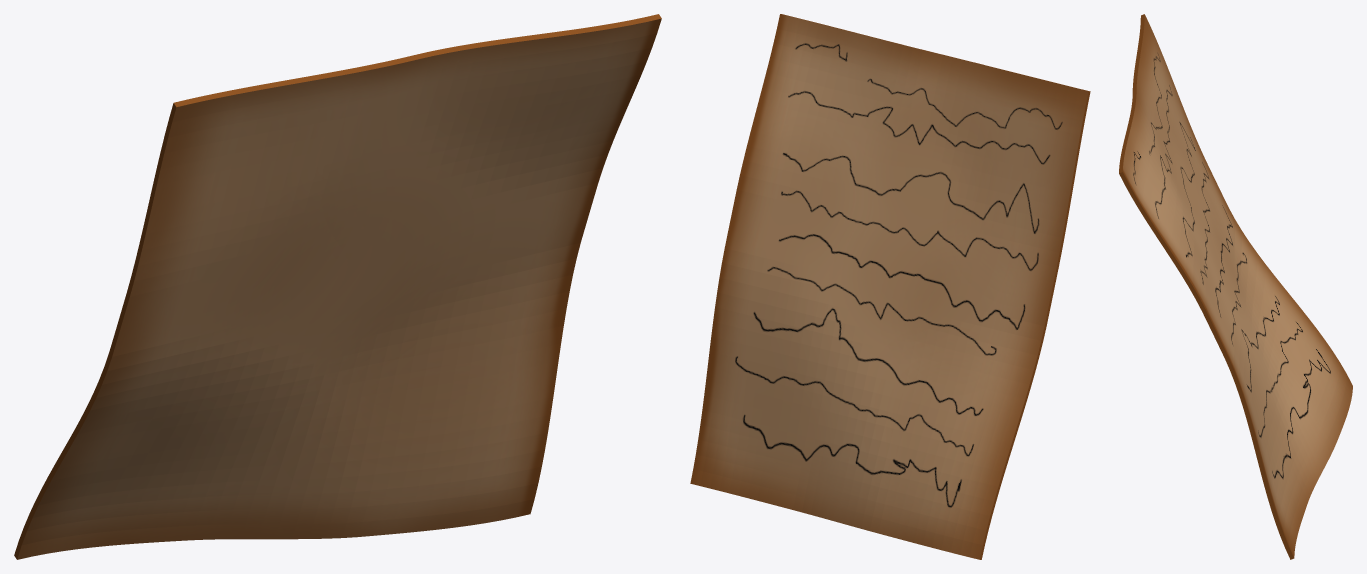
Rendered from Zapiski_mistrza.fbx.
The picture shows the model from 3 angles, left to right: view 1: azimuth 30°, elevation 25°; view 2: azimuth 150°, elevation 25°; view 3: azimuth 270°, elevation 25°; orthographic projection. The views are drawn at different scales.
Visible parts, largest first — view 1: Cube; view 2: Cube; view 3: Cube.
Part boxes in pixels (x1,y1,x2,y2): Cube: (14,14,661,559); Cube: (690,14,1090,559); Cube: (1119,14,1352,559).
Bounding box in the file's own units: 200 × 248 × 132.
1 material, 1 textured.
